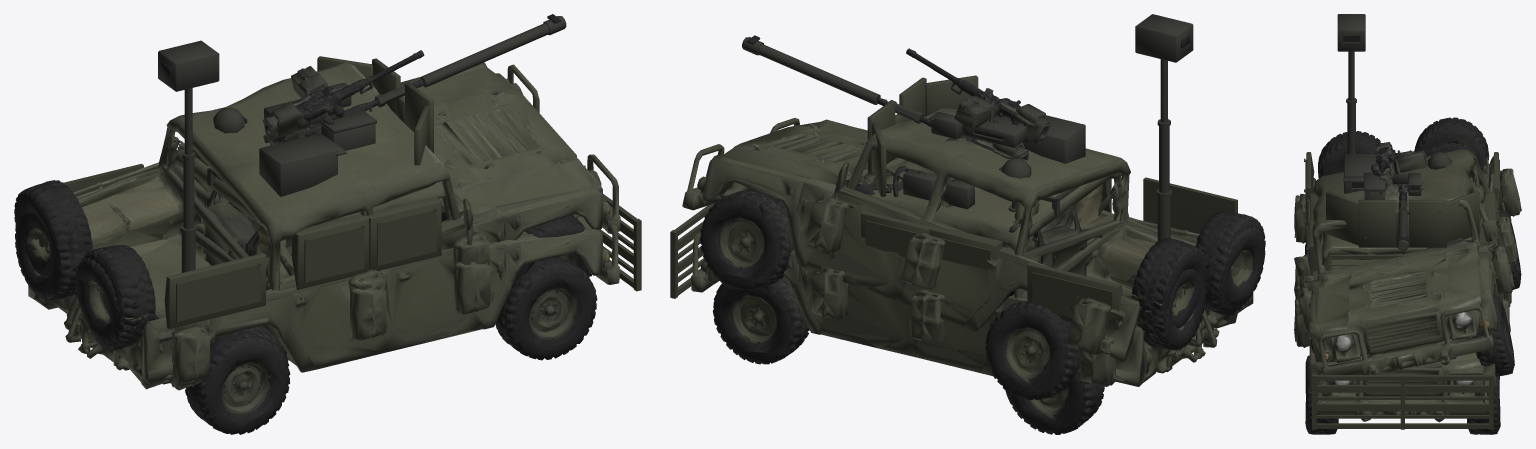
The model's file is jeep_shoded.glb.
3 views of the same model, side by side, from view 1: azimuth 30°, elevation 25°; view 2: azimuth 150°, elevation 25°; view 3: azimuth 270°, elevation 25° (orthographic). The views are drawn at different scales.
Parts seen in each view (by area): view 1: WRECK_hull_hull, hull_rubber, hull_hull, WRECK_hull_rubber, kit_armour_1_hull_hull, kit_armour_3_hull_hull, kit_sensors_3_hull_hull, WRECK_hull_metal, kit_sensors_2_hull_hull, kit_armour_2_hull_metal, kit_firepower_3_hull_metal, kit_firepower_2_hull_metal (+2 smaller); view 2: WRECK_hull_hull, WRECK_hull_rubber, hull_hull, hull_rubber, kit_armour_3_hull_hull, kit_sensors_3_hull_hull, kit_armour_1_hull_hull, kit_armour_2_hull_metal, WRECK_hull_metal, kit_firepower_3_hull_metal, kit_firepower_1_hull_metal, kit_sensors_2_hull_hull (+4 smaller); view 3: WRECK_hull_hull, hull_hull, WRECK_hull_rubber, kit_armour_2_hull_metal, kit_armour_3_hull_hull, hull_rubber, kit_armour_3_hull_hull_far, kit_sensors_3_hull_hull, kit_armour_3_hull_hull_near, WRECK_hull_metal, kit_sensors_2_hull_hull, kit_armour_1_hull_hull (+5 smaller).
Part boxes in pixels (x1,y1,x2,y2): WRECK_hull_hull: (14,62,619,388); hull_rubber: (15,225,619,434); hull_hull: (15,148,615,420); WRECK_hull_rubber: (14,62,620,390); kit_armour_1_hull_hull: (177,146,441,289); kit_armour_3_hull_hull: (64,163,641,328); kit_sensors_3_hull_hull: (158,40,219,272); WRECK_hull_metal: (263,50,424,143); kit_sensors_2_hull_hull: (207,134,346,208); kit_armour_2_hull_metal: (317,56,433,165); kit_firepower_3_hull_metal: (264,14,566,125); kit_firepower_2_hull_metal: (320,82,411,150); WRECK_hull_hull: (692,108,1264,393); WRECK_hull_rubber: (682,119,1237,400); hull_hull: (694,161,1265,418); hull_rubber: (691,217,1264,434); kit_armour_3_hull_hull: (670,160,1237,327); kit_sensors_3_hull_hull: (1135,14,1193,240); kit_armour_1_hull_hull: (861,178,1111,269); kit_armour_2_hull_metal: (867,75,978,196); WRECK_hull_metal: (906,48,1050,143); kit_firepower_3_hull_metal: (742,35,1028,147); kit_firepower_1_hull_metal: (903,111,974,209); kit_sensors_2_hull_hull: (1022,115,1085,215); WRECK_hull_hull: (1294,117,1505,380); hull_hull: (1294,131,1504,434); WRECK_hull_rubber: (1296,153,1521,396); kit_armour_2_hull_metal: (1326,191,1479,247); kit_armour_3_hull_hull: (1304,152,1499,429); hull_rubber: (1294,178,1511,434); kit_armour_3_hull_hull_far: (1316,385,1488,411); kit_sensors_3_hull_hull: (1337,14,1365,153); kit_armour_3_hull_hull_near: (1316,388,1488,418); WRECK_hull_metal: (1371,142,1426,190); kit_sensors_2_hull_hull: (1343,154,1377,193); kit_armour_1_hull_hull: (1306,193,1497,275).
Size of the model in its own units: 4.93 by 3.36 by 2.45.
Materials: 1 (1 with a texture image).
